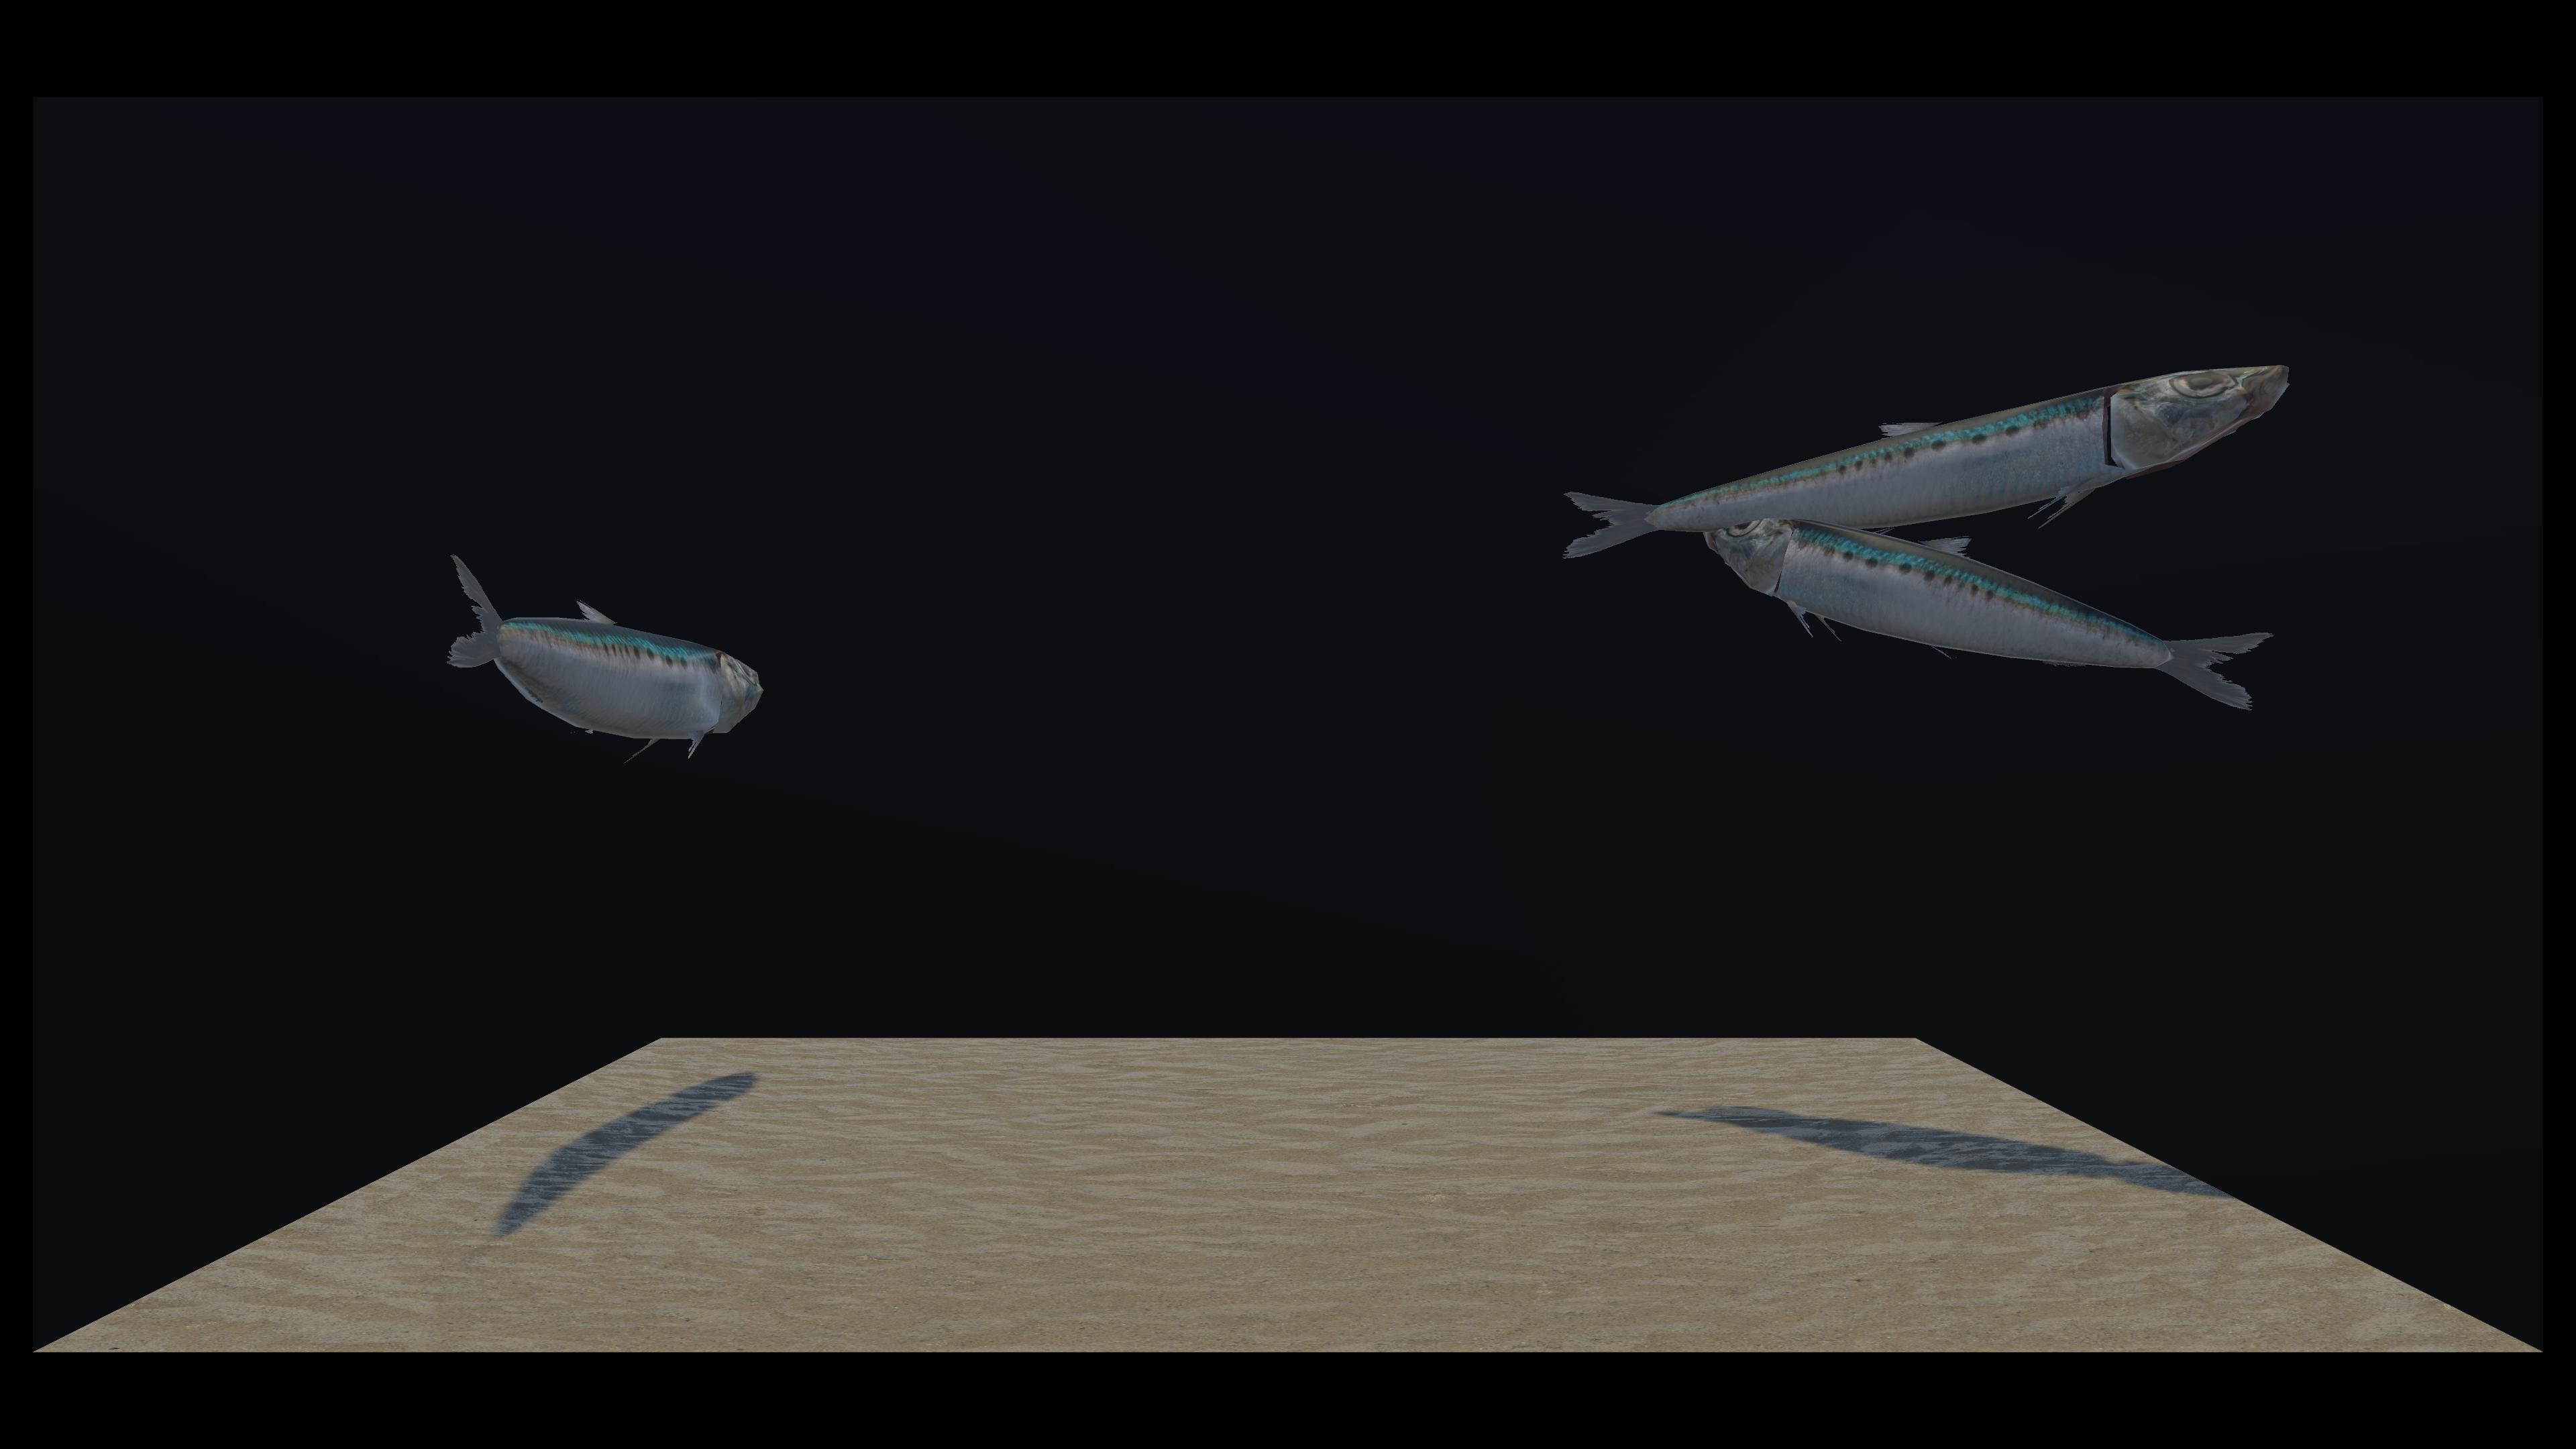Sardine_Front: (947, 513, 2272, 711), (991, 366, 2279, 557), (448, 347, 771, 770)
